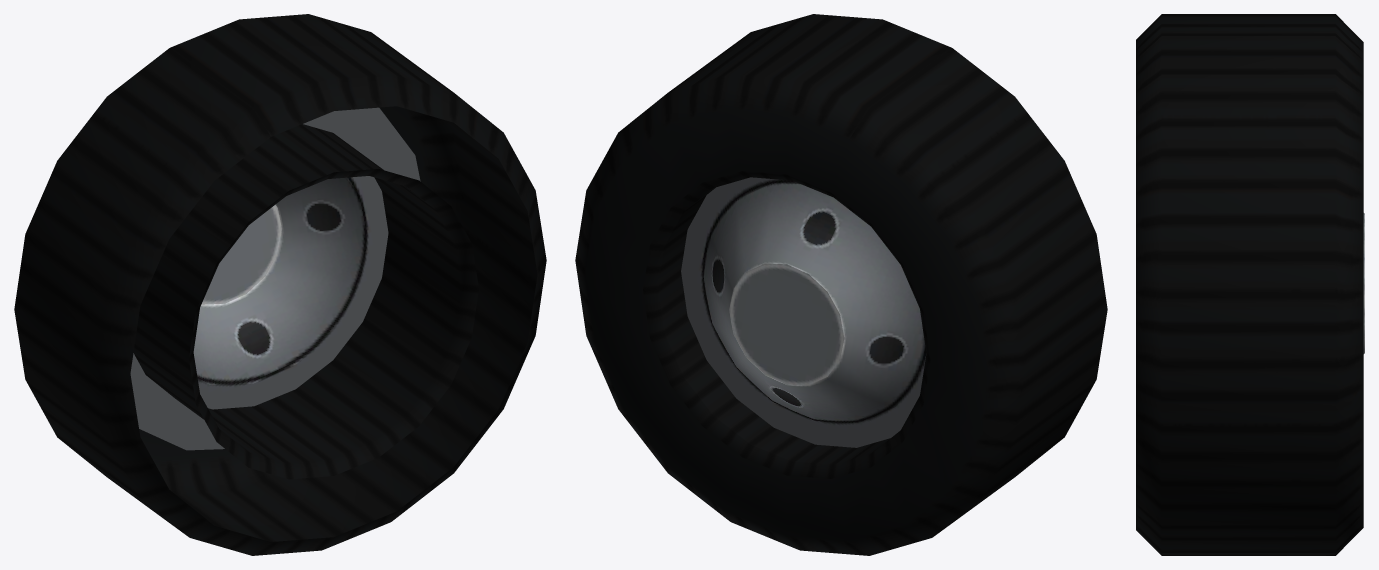
Rendered from FoodTruck_Wheels.fbx.
3 views of the same model, side by side, from view 1: azimuth 30°, elevation 25°; view 2: azimuth 150°, elevation 25°; view 3: azimuth 270°, elevation 25° (orthographic). The views are drawn at different scales.
Visible parts, largest first — view 1: FoodTruck_Wheels; view 2: FoodTruck_Wheels; view 3: FoodTruck_Wheels.
Part boxes in pixels (x1=…): FoodTruck_Wheels: x1=14, y1=14, x2=546, y2=555; FoodTruck_Wheels: x1=575, y1=14, x2=1107, y2=555; FoodTruck_Wheels: x1=1136, y1=14, x2=1364, y2=555.
Size of the model in its own units: 1.64 by 1.64 by 0.6877.
1 material, 1 textured.
